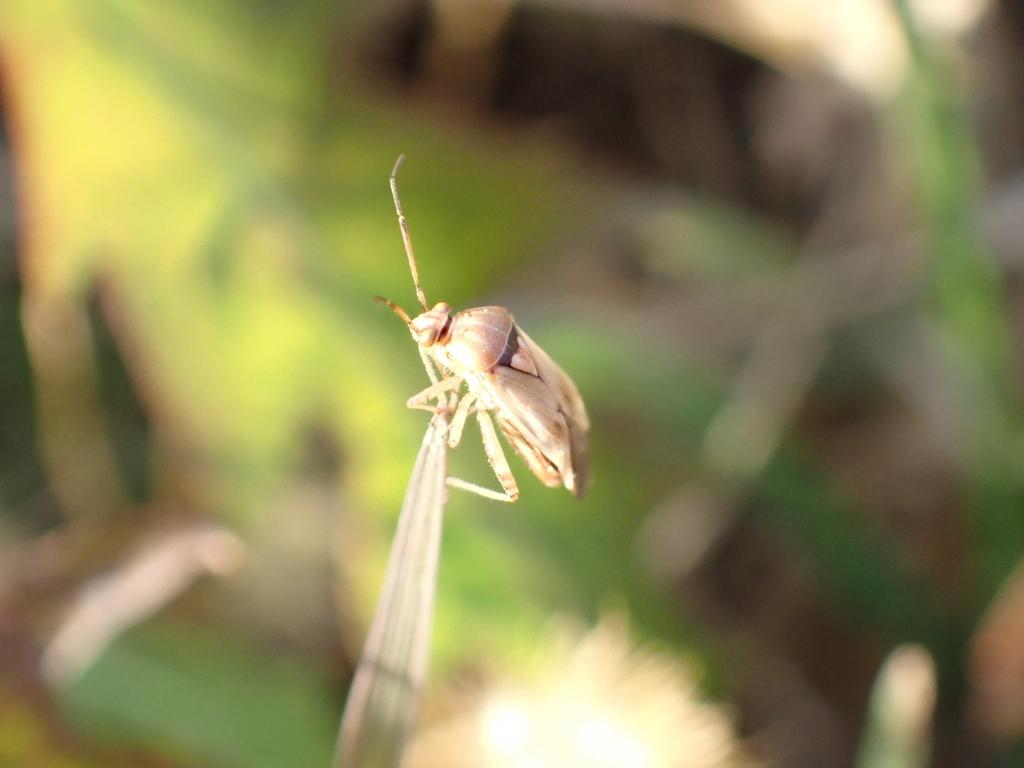plant_bugs: (301, 123, 683, 568)
